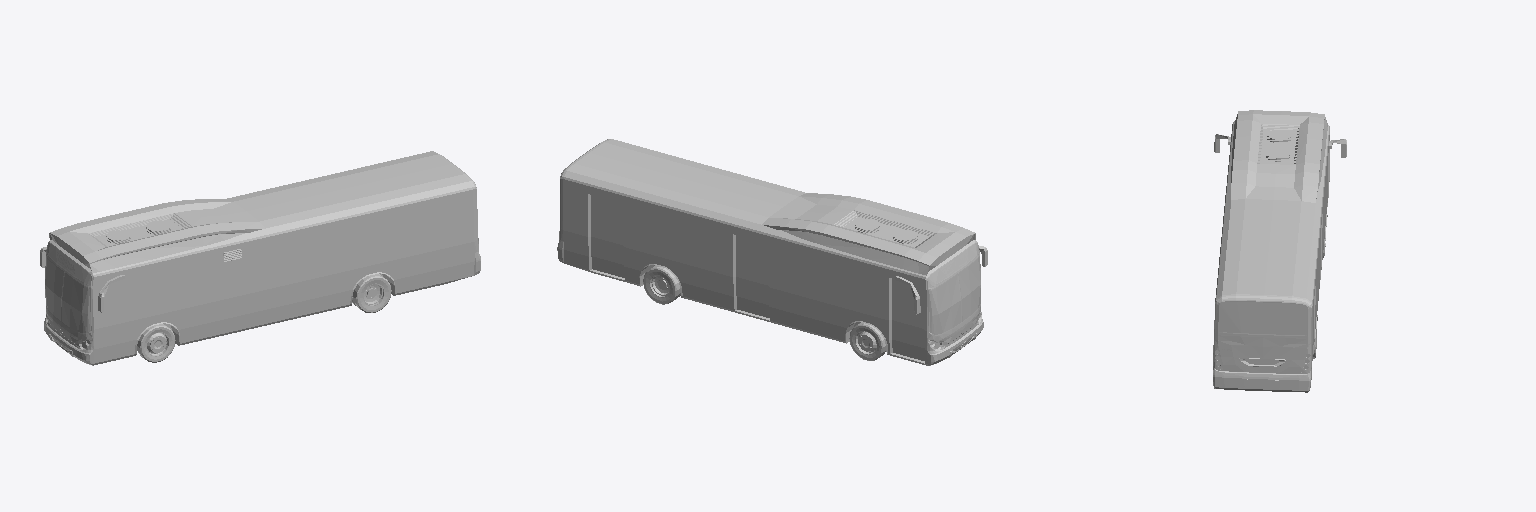
Rendered from bus.obj.
The picture shows the model from 3 angles: view 1: azimuth 30°, elevation 25°; view 2: azimuth 150°, elevation 25°; view 3: azimuth 270°, elevation 25°; orthographic projection.
Parts seen in each view (by area): view 1: Group_5_001, Tire_5_1_001, Tire_5_001; view 2: Group_5_001, Tire_5_1_002, Tire_5_002; view 3: Group_5_001.
Part boxes in pixels (x1,y1,x2,y2): Group_5_001: (40, 151, 480, 365); Tire_5_1_001: (352, 274, 391, 312); Tire_5_001: (137, 324, 175, 362); Group_5_001: (557, 139, 987, 365); Tire_5_1_002: (643, 265, 680, 304); Tire_5_002: (849, 323, 885, 360); Group_5_001: (1213, 110, 1346, 392).
Bounding box in the file's own units: 462 × 133 × 137.